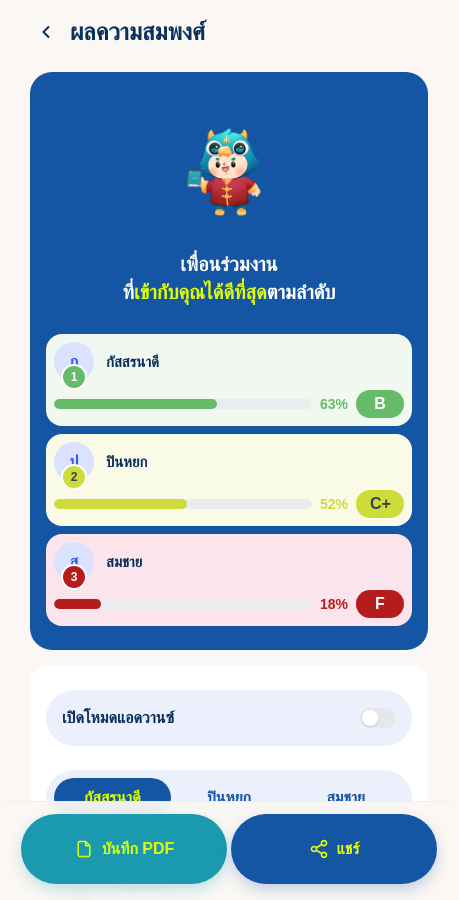
#585 ก้อน 5 — the colleague result screen › คนที่คำทำนายมาไม่ครบ จอบอกว่าขาดกี่มุมมอง ❌ ไม่ใช่โชว์เท่าที่มีเฉย ๆ
Expected: the navigation bar with test id "work-tabs" is shown, x1=46 y1=770 x2=412 y2=826
What coordinates should you click on to do the following:
click the button with test id "work-tab-3"
I would click on:
 (346, 798)
Its box is x1=287 y1=778 x2=404 y2=818.
(page scrolled)
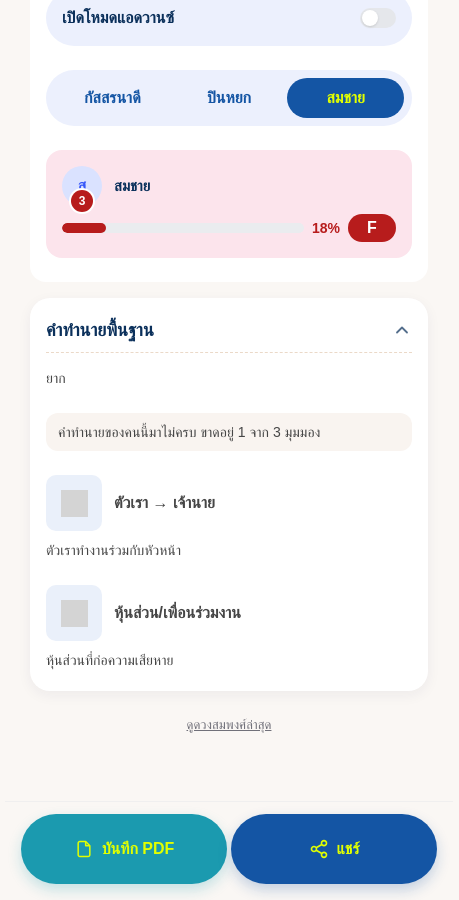
Expected: the message with test id "work-roles-incomplete" shows "1", x1=238 y1=424 x2=246 y2=440
Expected: the message with test id "work-roles-incomplete" shows "3", x1=246 y1=424 x2=320 y2=440
